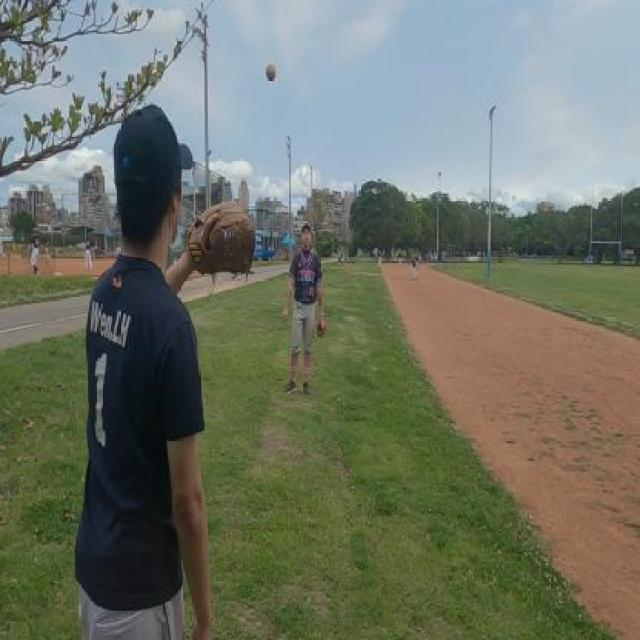sports ball: (262, 59, 280, 83)
